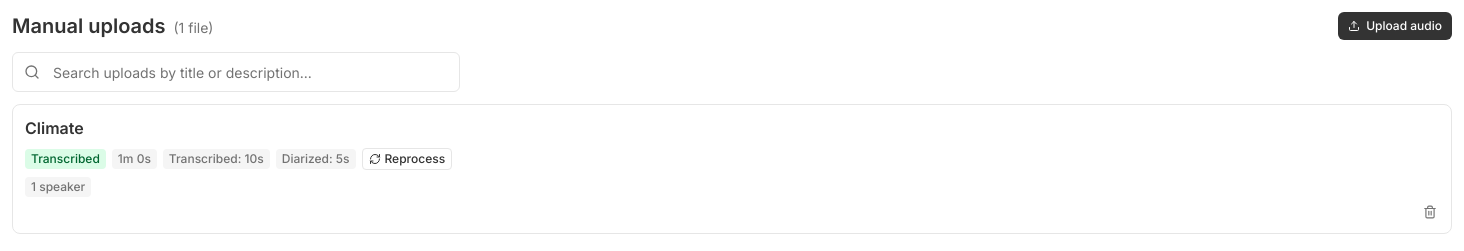
Scenario: UploadsSection › shows 'No uploads match' when filter returns zero results
The image size is (1464, 251).
Type "zzznomatch" into the field named "search manual uploads". click: (236, 72)
box: [12,52,460,92]
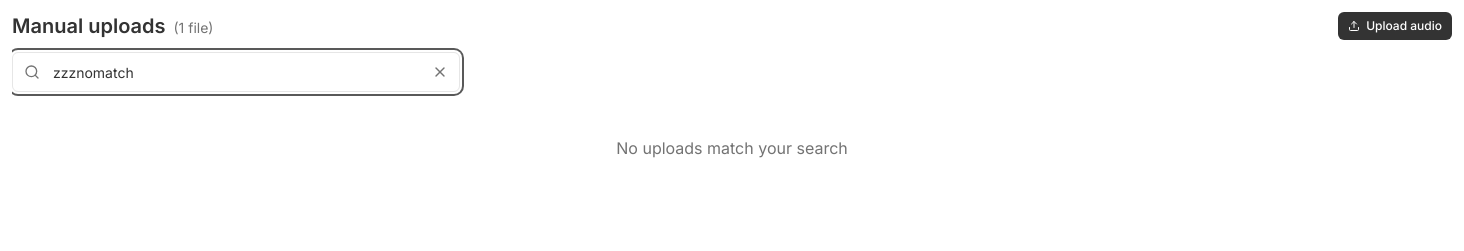
Check: the text "No uploads match your search" is shown, box [616,138,848,158]
